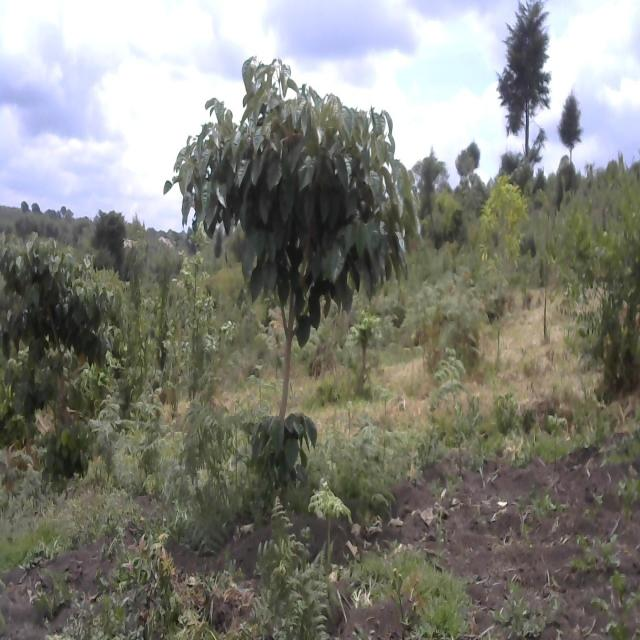cedrus: (494, 0, 557, 145), (558, 87, 589, 161)
other: (164, 51, 413, 478), (0, 244, 115, 444), (479, 176, 531, 362), (415, 143, 445, 221), (454, 131, 483, 200), (93, 202, 127, 258)
